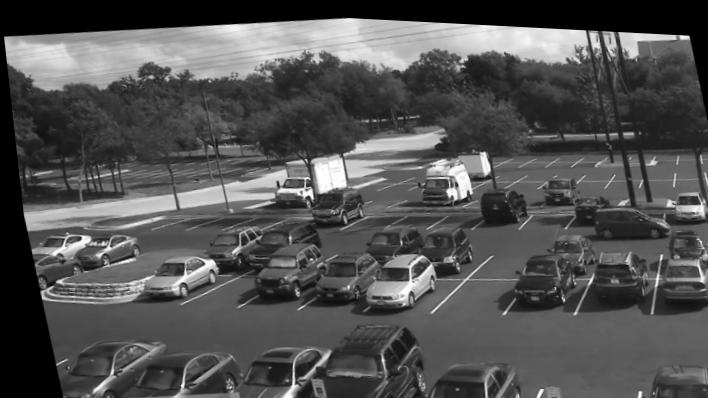empty: (527, 358, 632, 398), (422, 270, 507, 309), (178, 270, 250, 306), (477, 240, 523, 266), (606, 202, 659, 224), (387, 206, 440, 225), (608, 230, 650, 252), (339, 209, 394, 225), (518, 206, 566, 224), (313, 232, 354, 252), (431, 204, 474, 220), (377, 172, 421, 186), (235, 213, 280, 224), (161, 215, 215, 224), (671, 169, 704, 182), (634, 171, 673, 182), (609, 161, 644, 173), (598, 173, 638, 183), (511, 185, 539, 199), (572, 146, 602, 159), (195, 217, 243, 225), (502, 175, 539, 185), (672, 145, 700, 158), (648, 146, 676, 158), (579, 161, 612, 171), (544, 150, 573, 161), (640, 160, 670, 170), (594, 185, 617, 198), (518, 162, 551, 171), (471, 175, 507, 183), (551, 162, 583, 171), (669, 161, 703, 169), (488, 164, 522, 172), (494, 152, 524, 161), (573, 173, 606, 181), (520, 152, 547, 160), (697, 144, 708, 155), (701, 170, 708, 183), (700, 159, 708, 168)
occupied: (299, 319, 425, 398), (50, 336, 157, 398), (112, 347, 232, 398), (216, 345, 325, 398), (415, 353, 523, 398), (359, 247, 440, 307), (248, 239, 320, 296), (304, 247, 377, 301), (507, 247, 574, 300), (584, 242, 646, 297), (136, 253, 213, 297), (644, 355, 708, 397), (359, 219, 423, 260), (301, 183, 360, 227), (655, 247, 706, 297), (417, 153, 469, 201), (415, 222, 468, 268), (68, 233, 133, 270), (200, 223, 254, 267), (475, 184, 525, 228), (247, 218, 313, 249), (26, 253, 77, 289), (545, 228, 589, 269), (571, 188, 608, 220), (536, 170, 574, 200), (669, 184, 701, 213), (667, 223, 700, 250)
